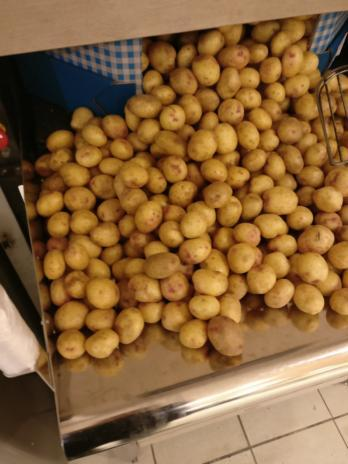Floury potato: (140, 21, 296, 357), (30, 98, 161, 358), (297, 55, 348, 309)
